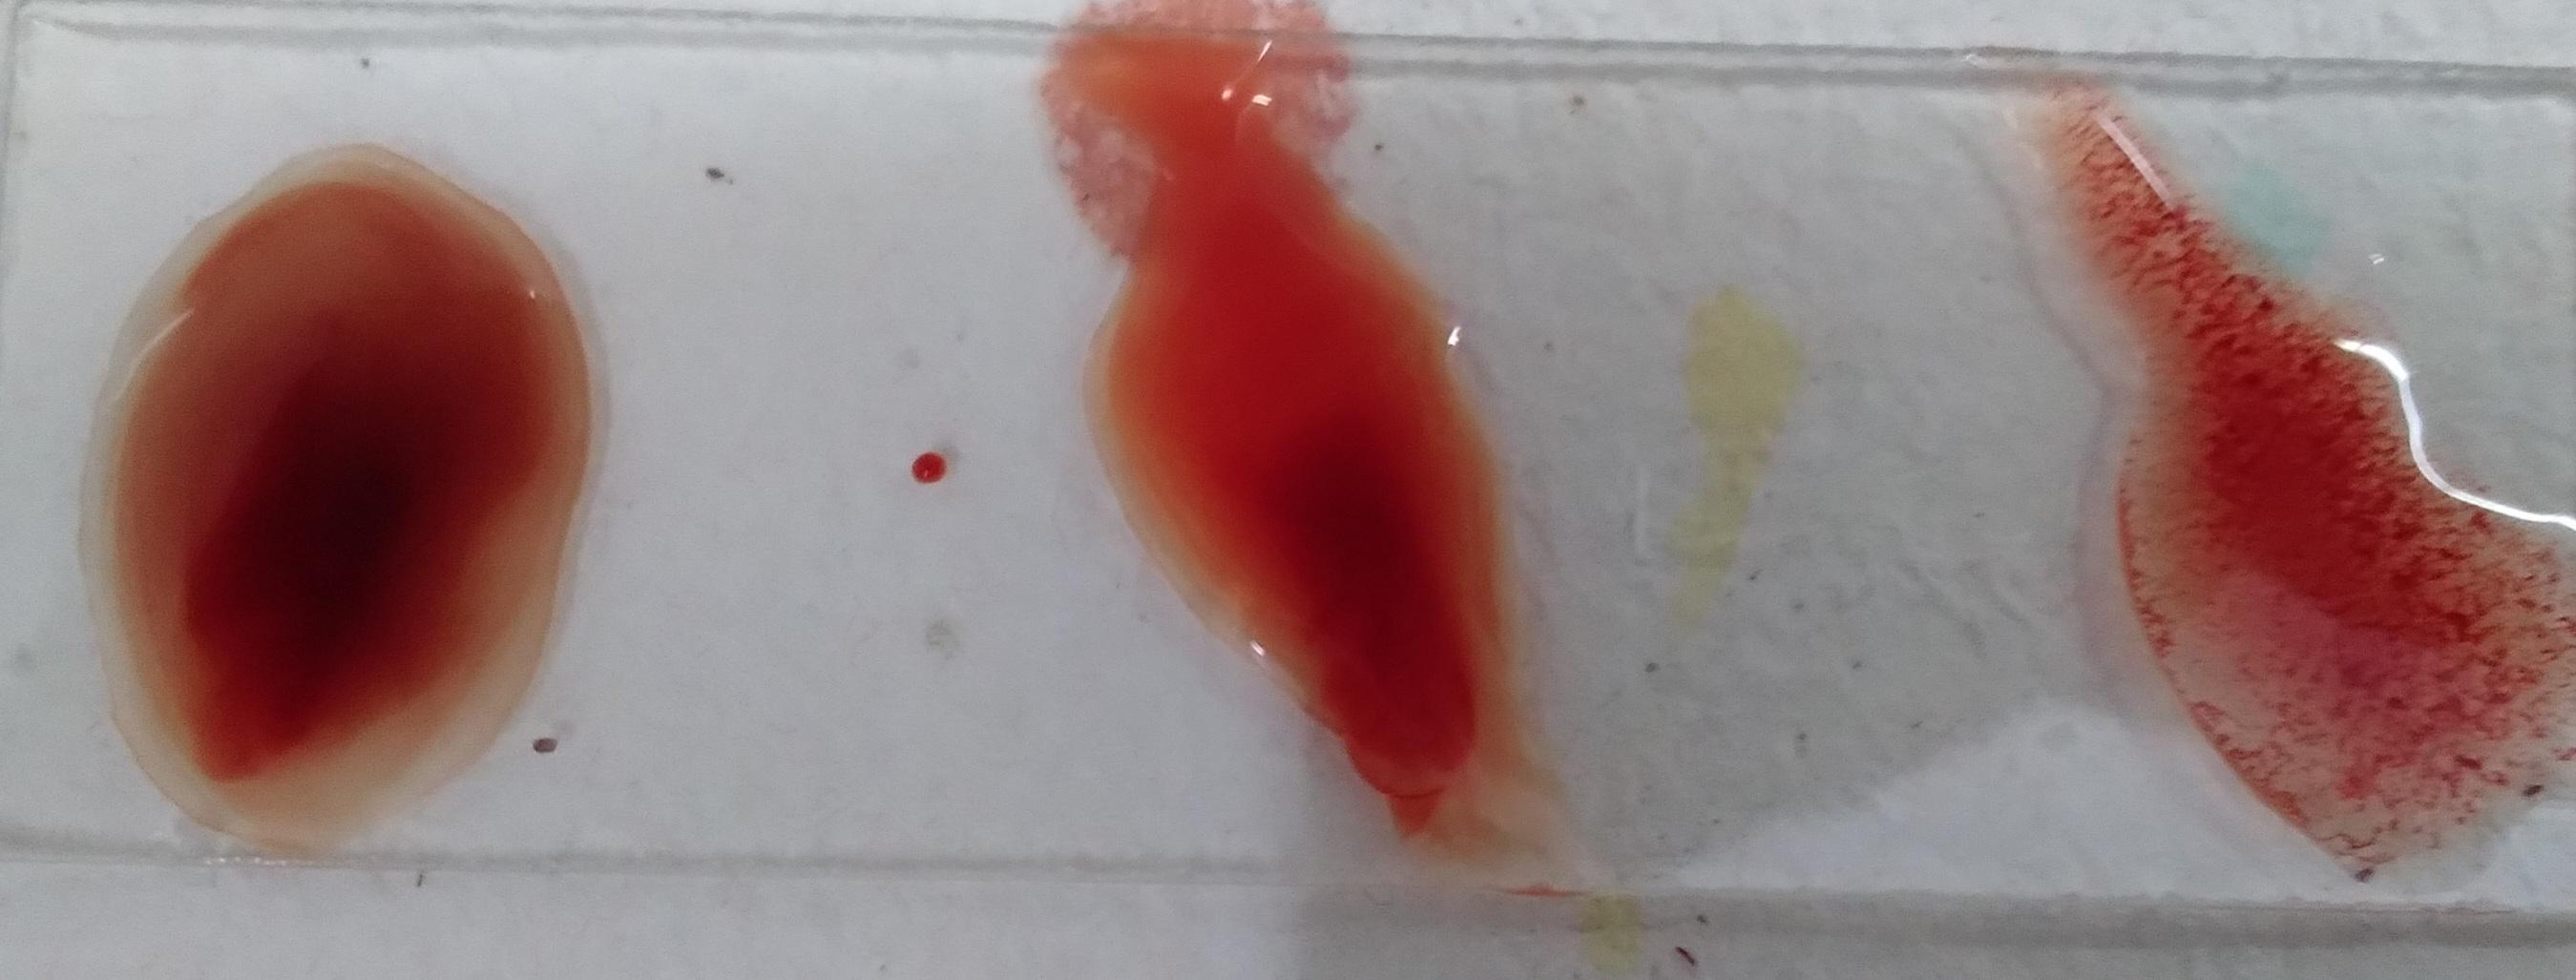D: (13, 72, 567, 900)
